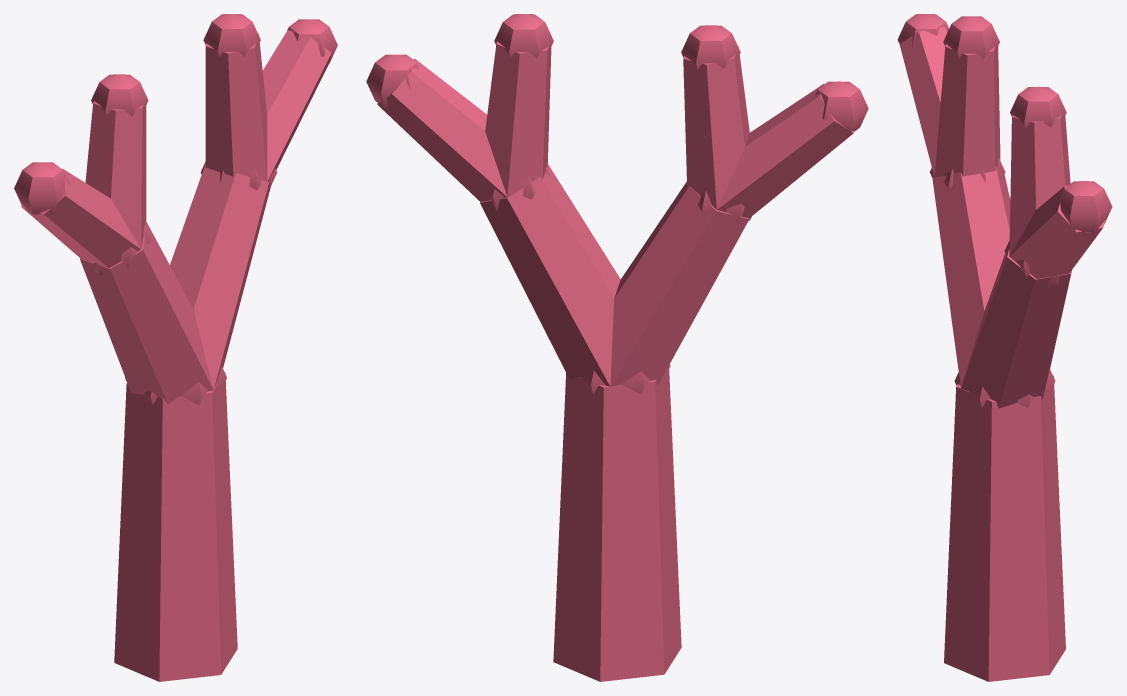
The model's file is Coral.fbx.
3 renders of one model, left to right at view 1: azimuth 30°, elevation 25°; view 2: azimuth 150°, elevation 25°; view 3: azimuth 270°, elevation 25°, orthographic. The views are drawn at different scales.
Parts seen in each view (by area): view 1: Coral; view 2: Coral; view 3: Coral.
Boxes of the visible parts, x1=… form: Coral: x1=14, y1=14, x2=337, y2=681; Coral: x1=366, y1=14, x2=868, y2=681; Coral: x1=897, y1=14, x2=1112, y2=681.
Size of the model in its own units: 1.76 by 2.64 by 0.8504.
1 material, 1 textured.
